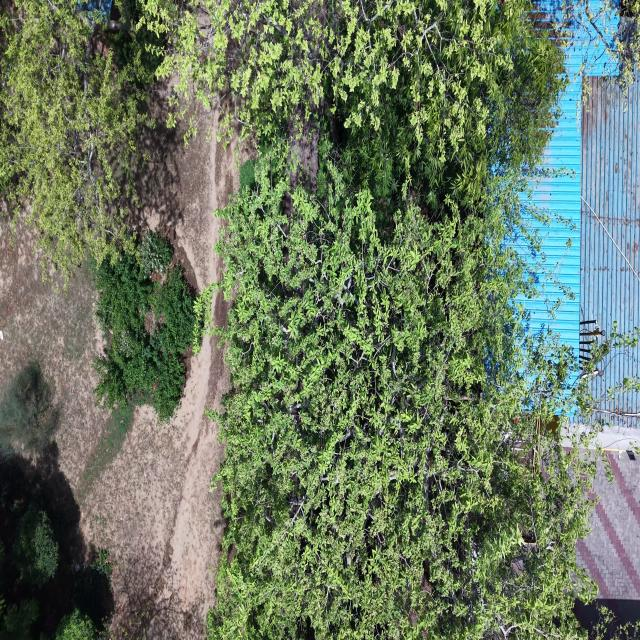DRY_AREA: (0, 221, 228, 638), (86, 338, 228, 638), (0, 219, 108, 486), (161, 339, 228, 633), (163, 338, 229, 630), (163, 338, 229, 622), (577, 450, 639, 619)
ROOFTOP_BUILDING: (523, 21, 639, 361), (523, 30, 639, 358), (523, 28, 616, 352), (580, 76, 639, 354), (577, 451, 639, 619), (78, 0, 130, 31), (78, 0, 112, 18)
VEGETATION_TREE: (0, 0, 595, 639), (148, 0, 595, 639), (209, 142, 594, 639), (143, 0, 563, 205), (0, 0, 193, 419), (0, 0, 159, 281), (0, 0, 143, 279), (0, 445, 113, 639), (95, 233, 195, 421), (546, 0, 639, 95), (94, 0, 164, 96), (77, 403, 135, 499), (0, 363, 57, 458), (13, 505, 58, 586), (589, 606, 639, 639), (0, 599, 38, 639), (140, 233, 173, 277), (55, 609, 96, 639), (239, 160, 255, 190)
